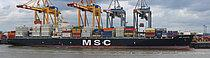Ship: (2, 22, 197, 52)
